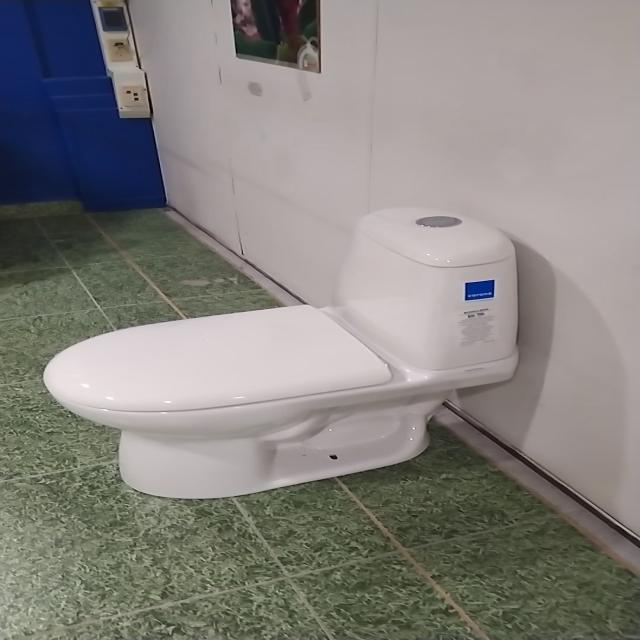toilet: (33, 200, 533, 503)
